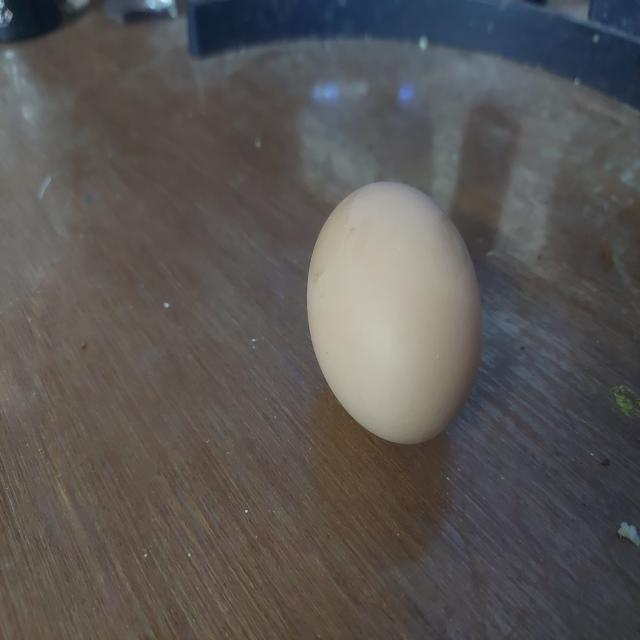Egg: (303, 174, 485, 450)
